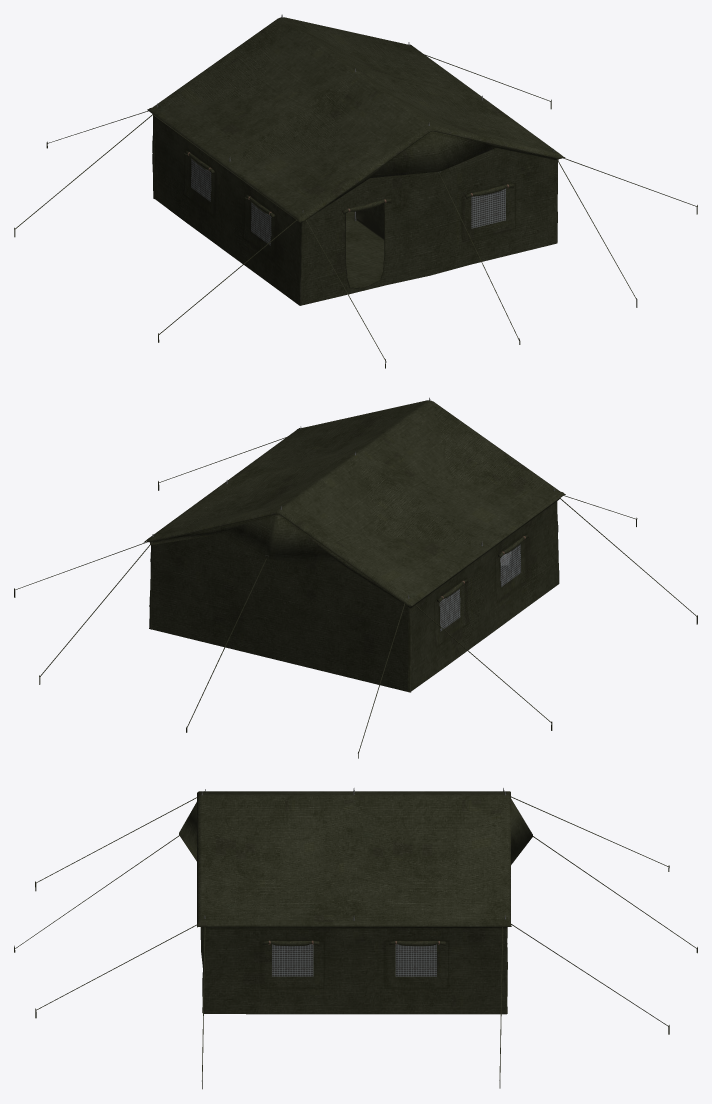
File: mil_tent.gltf
3 renders of one model, top to bottom at view 1: azimuth 30°, elevation 25°; view 2: azimuth 150°, elevation 25°; view 3: azimuth 270°, elevation 25°, orthographic. The views are drawn at different scales.
Parts seen in each view (by area): view 1: osnova, object 8; view 2: osnova; view 3: osnova.
Boxes of the visible parts, x1,y1,x2,y2 form: osnova: (14,14,697,368); object 8: (355,203,384,239); osnova: (14,397,697,758); osnova: (14,788,697,1089).
Size of the model in its own units: 945 by 266 by 1010.
6 materials, 6 textured.
